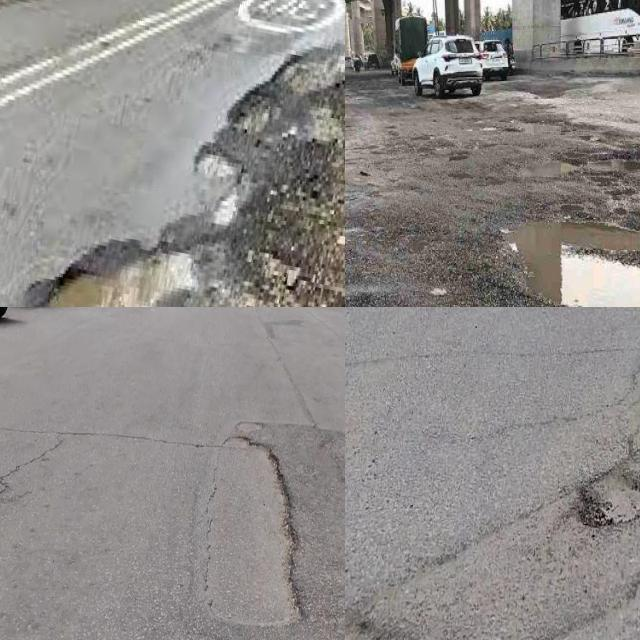Pothole: (155, 43, 345, 307), (205, 433, 303, 622), (26, 243, 206, 307), (518, 224, 640, 307), (577, 460, 640, 530), (197, 154, 237, 178), (214, 193, 238, 225)
